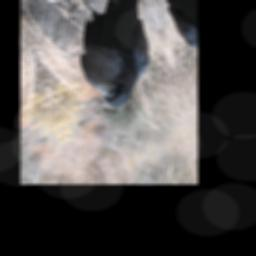Crow: (55, 0, 174, 118)
